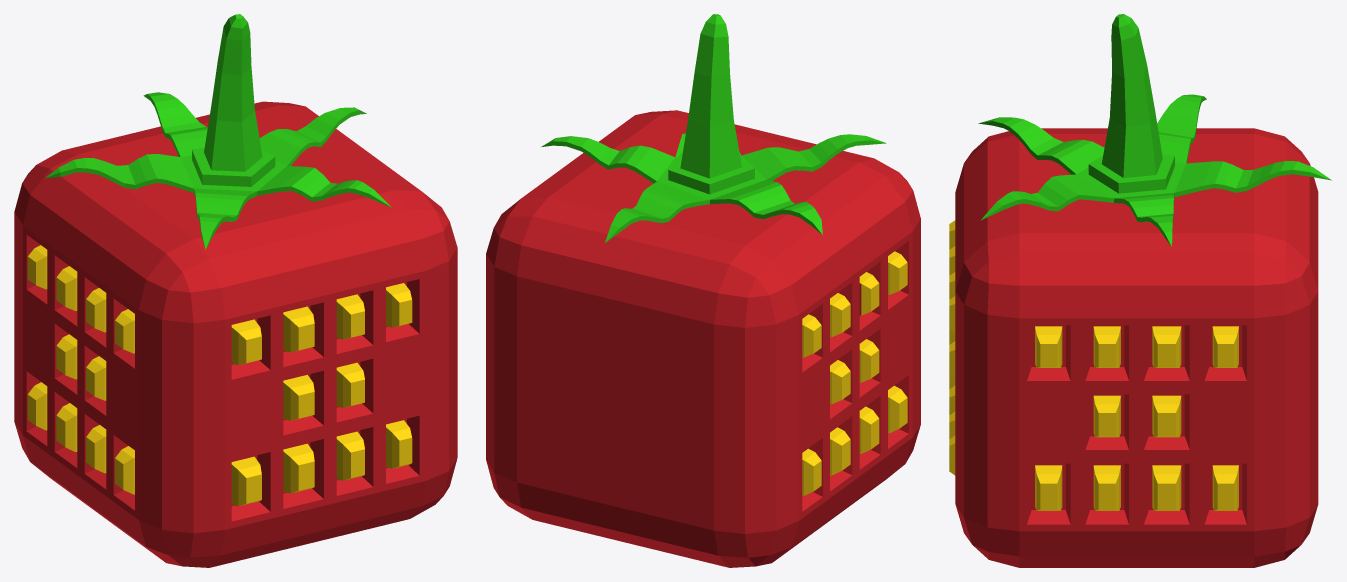
Rendered from finalstraytrial222v4.fbx.
The picture shows the model from 3 angles, left to right: view 1: azimuth 30°, elevation 25°; view 2: azimuth 150°, elevation 25°; view 3: azimuth 270°, elevation 25°; orthographic projection. The views are drawn at different scales.
Visible parts, largest first — view 1: Cube, Cube.001; view 2: Cube, Cube.001; view 3: Cube, Cube.001.
Boxes of the visible parts, x1,y1,x2,y2 form: Cube: [14, 101, 457, 567]; Cube.001: [45, 14, 391, 249]; Cube: [486, 110, 920, 567]; Cube.001: [541, 14, 886, 242]; Cube: [949, 128, 1318, 567]; Cube.001: [978, 14, 1331, 246].
Size of the model in its own units: 207 by 301 by 211.
